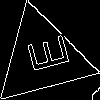E: (17, 33, 70, 77)
